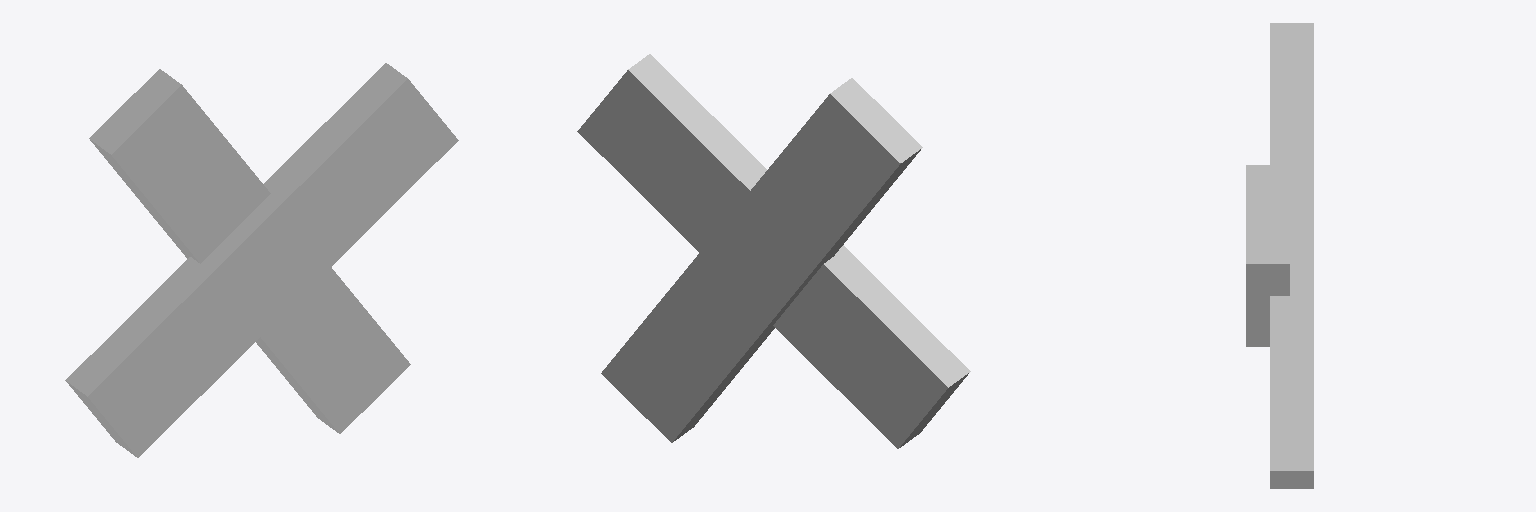
File: Wooden Barricade.obj
The picture shows the model from 3 angles: view 1: azimuth 30°, elevation 25°; view 2: azimuth 150°, elevation 25°; view 3: azimuth 270°, elevation 25°; orthographic projection.
Size of the model in its own units: 1.49 by 1.49 by 0.2391.